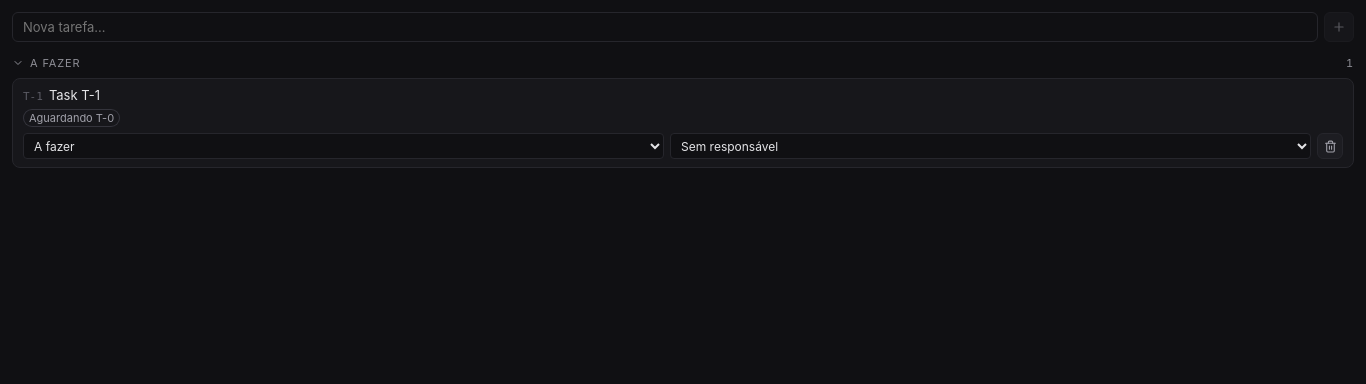
Test: TasksPanel › Given a task, when asking for details, then the details and the progress log are shown
Click the button "T-1 Task T-1" at (74, 95), box [23,87,1343,103]
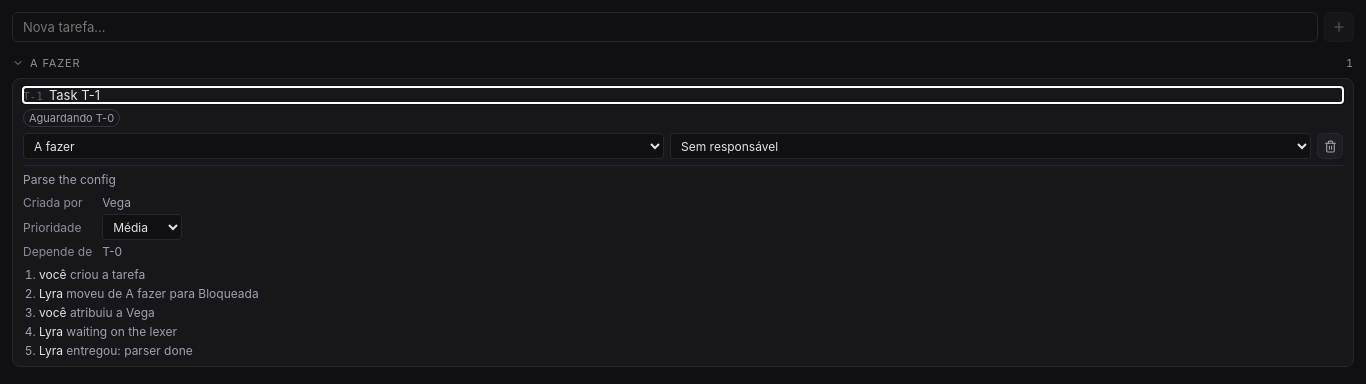
Result: the text "Parse the config" is shown at [23,172,116,187]
Result: the text "T-0" is shown at [102,244,122,259]
Result: the list items read "você criou a tarefa", "Lyra moveu de A fazer para Bloqueada", "você atribuiu a Vega", "Lyra waiting on the lexer", "Lyra entregou: parser done", in this order at [39,267,145,282]; [39,286,259,301]; [39,305,155,320]; [39,324,177,339]; [39,343,193,358]
